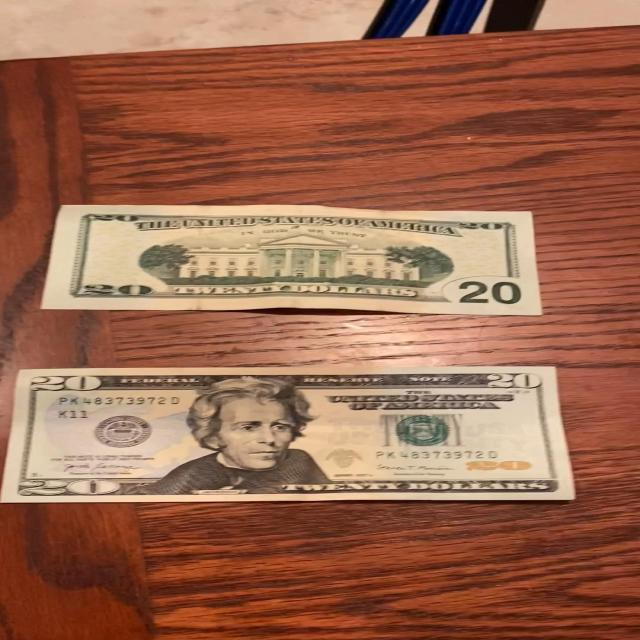20-Back: (36, 199, 547, 324)
20-Front: (0, 362, 587, 508)
